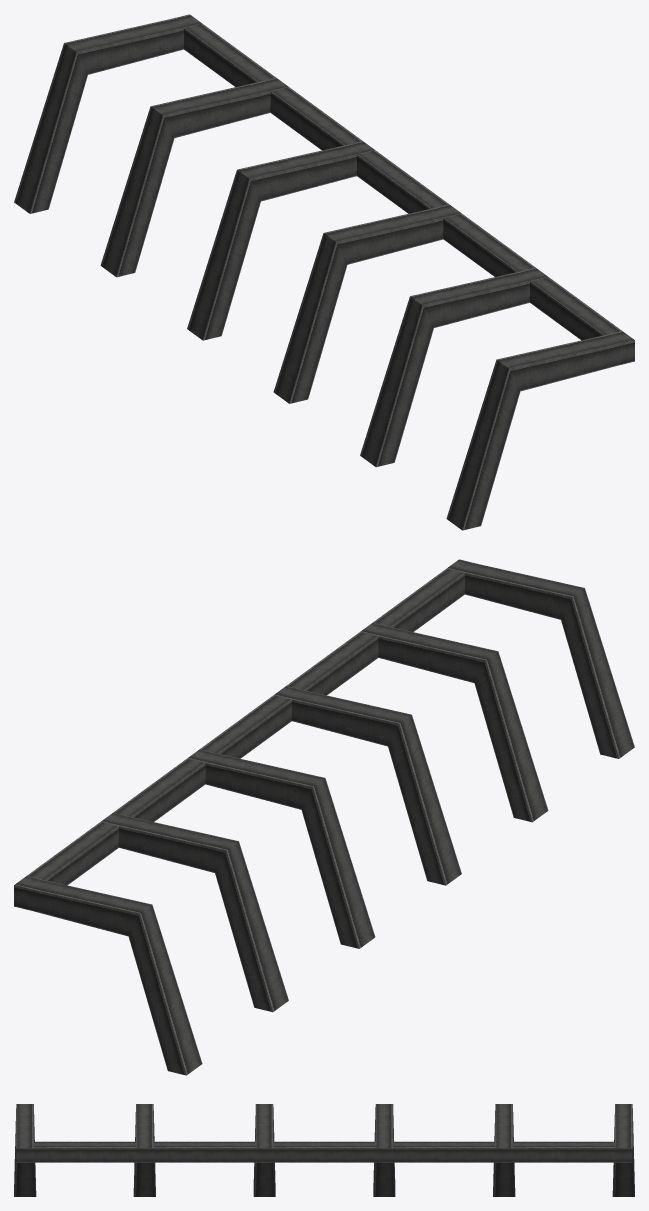
File: dam_trellis01.obj
3 views of the same model, one above another, from view 1: azimuth 30°, elevation 25°; view 2: azimuth 150°, elevation 25°; view 3: azimuth 270°, elevation 25° (orthographic). The views are drawn at different scales.
Visible parts, largest first — view 1: dam_trellis01; view 2: dam_trellis01; view 3: dam_trellis01.
Part boxes in pixels (x1,y1,x2,y2): dam_trellis01: (14,14,634,530); dam_trellis01: (14,559,634,1075); dam_trellis01: (14,1104,634,1196).
Size of the model in its own units: 7.91 by 6.45 by 35.26.
Materials: 1 (1 with a texture image).
